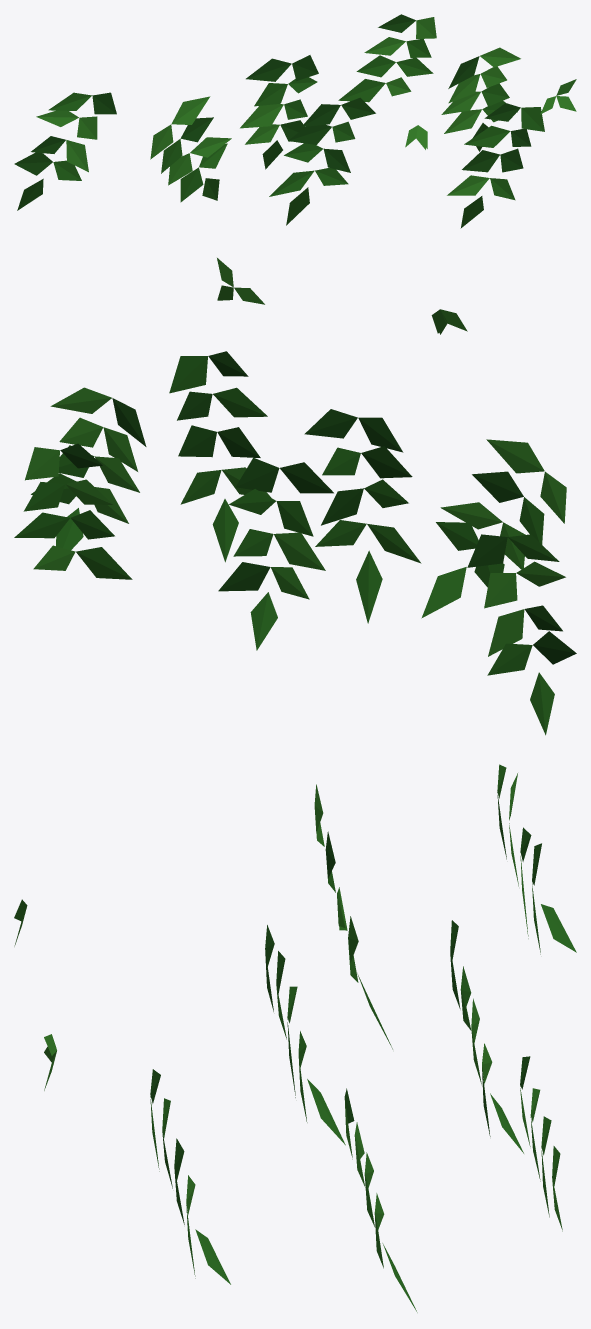
3 renders of one model, top to bottom at view 1: azimuth 30°, elevation 25°; view 2: azimuth 150°, elevation 25°; view 3: azimuth 270°, elevation 25°, orthographic. The views are drawn at different scales.
Visible parts, largest first — view 1: r13c3_l11; view 2: r13c3_l11; view 3: r13c3_l11.
Part boxes in pixels (x1,y1,x2,y2): r13c3_l11: (14, 14, 576, 228); r13c3_l11: (14, 258, 576, 735); r13c3_l11: (14, 764, 576, 1312).
Bounding box in the file's own units: 1.55 × 0.5663 × 0.9652.
